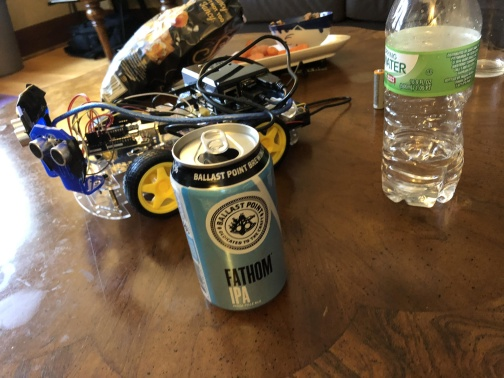bottle: (377, 1, 485, 211)
can: (167, 123, 290, 313)
